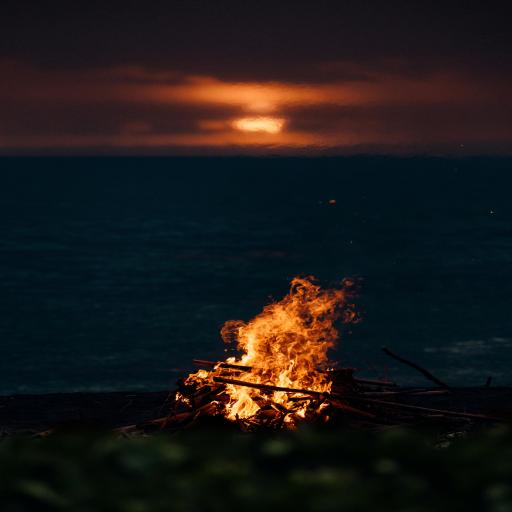campfire: (0, 275, 512, 449)
